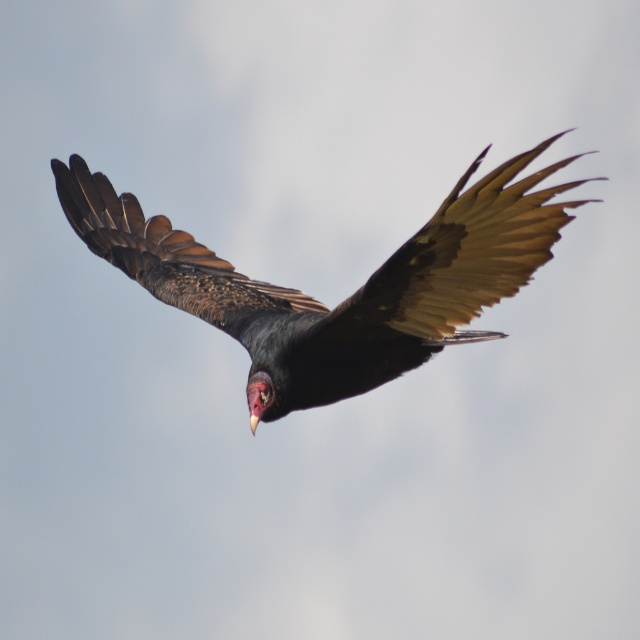Eagle: (51, 127, 609, 438)
